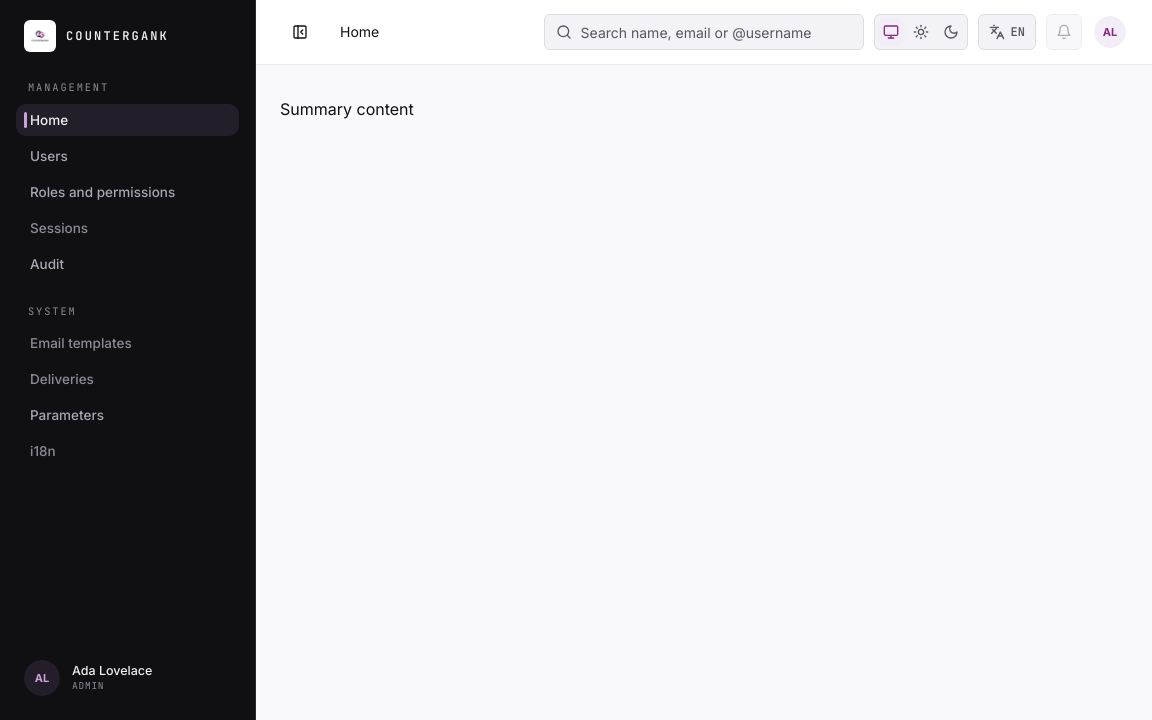
Test: DashboardLayout landmarks and focus (S4) › parks focus on main after a client-side navigation
Click the link "Users".
click(49, 156)  # box [30,148,68,164]
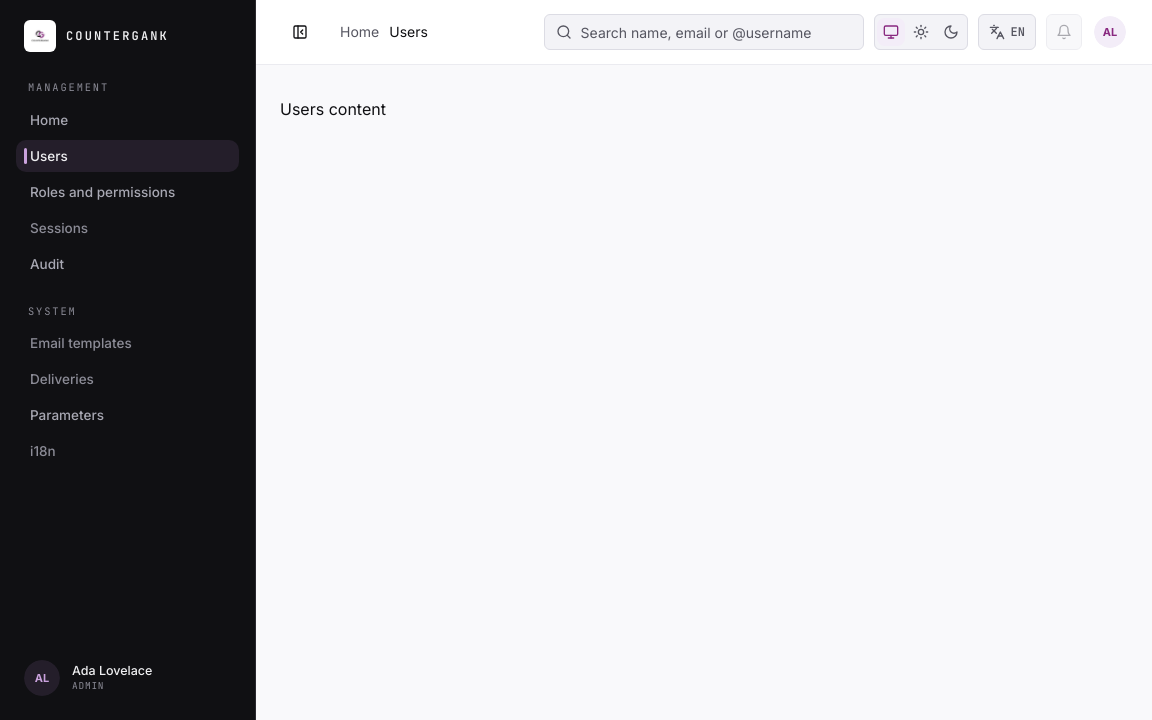
expect the heading "Users content" is shown: met, box [280,99,386,119]
